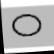no answer: (10, 12, 43, 38)
